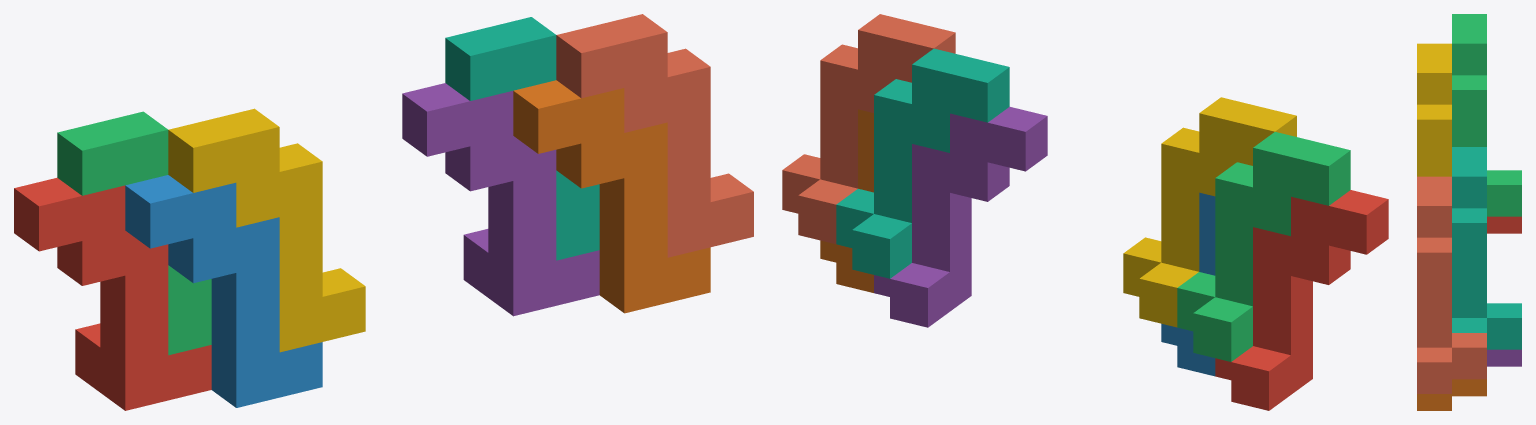
Rendered from tiling.obj.
The picture shows the model from 3 angles, left to right: view 1: azimuth 30°, elevation 25°; view 2: azimuth 150°, elevation 25°; view 3: azimuth 270°, elevation 25°; orthographic projection. The views are drawn at different scales.
Visible parts, largest first — view 1: copy_1_domain_5, copy_1_domain_1, copy_1_domain_2, copy_1_domain_6, copy_1_domain_4, copy_1_domain_8, copy_1_domain_7, copy_1_domain_3; view 2: copy_1_domain_1, copy_1_domain_5, copy_1_domain_7, copy_1_domain_3, copy_1_domain_4, copy_1_domain_8, copy_1_domain_2, copy_1_domain_6; view 3: copy_1_domain_8, copy_1_domain_7, copy_1_domain_3, copy_1_domain_4, copy_1_domain_6, copy_1_domain_1, copy_1_domain_5.
Part boxes in pixels (box(x1,y1,x2,y2)): copy_1_domain_5: box(402, 83, 599, 316); copy_1_domain_1: box(14, 178, 211, 410); copy_1_domain_2: box(125, 175, 322, 407); copy_1_domain_6: box(513, 80, 710, 313); copy_1_domain_4: box(168, 108, 365, 352); copy_1_domain_8: box(556, 14, 753, 257); copy_1_domain_7: box(445, 17, 599, 260); copy_1_domain_3: box(57, 111, 211, 355); copy_1_domain_1: box(1215, 190, 1388, 410); copy_1_domain_5: box(874, 106, 1047, 327); copy_1_domain_7: box(836, 48, 1009, 278); copy_1_domain_3: box(1177, 132, 1350, 361); copy_1_domain_4: box(1123, 97, 1296, 327); copy_1_domain_8: box(782, 14, 955, 244); copy_1_domain_2: box(1161, 192, 1215, 376); copy_1_domain_6: box(820, 109, 873, 292); copy_1_domain_8: box(1417, 176, 1486, 393); copy_1_domain_7: box(1452, 147, 1521, 349); copy_1_domain_3: box(1452, 14, 1521, 216); copy_1_domain_4: box(1417, 43, 1451, 176); copy_1_domain_6: box(1417, 379, 1486, 410); copy_1_domain_1: box(1487, 216, 1521, 233); copy_1_domain_5: box(1487, 349, 1521, 366).
Bounding box in the file's own units: 16 × 6 × 3.
